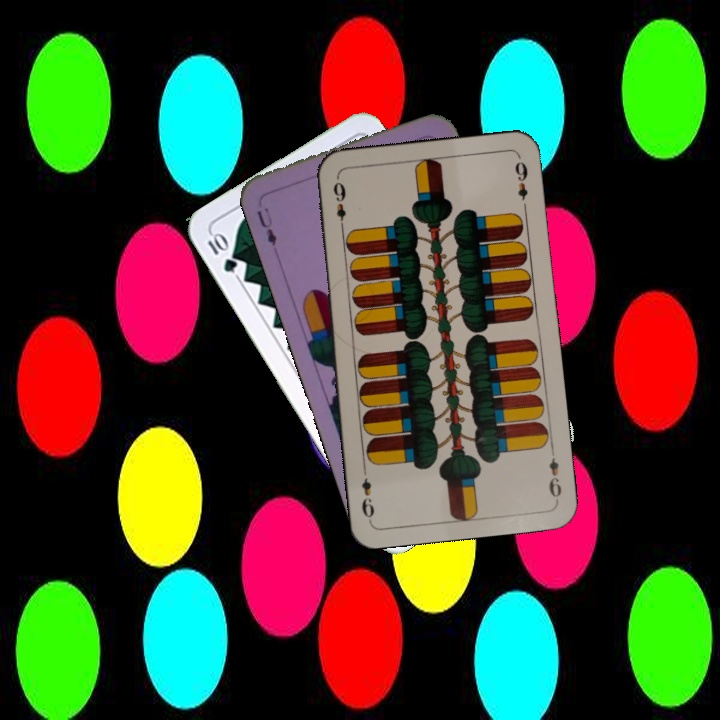E9: (329, 175, 348, 234), (545, 444, 564, 503)
EU: (252, 203, 280, 249)
G10: (203, 228, 240, 275)
